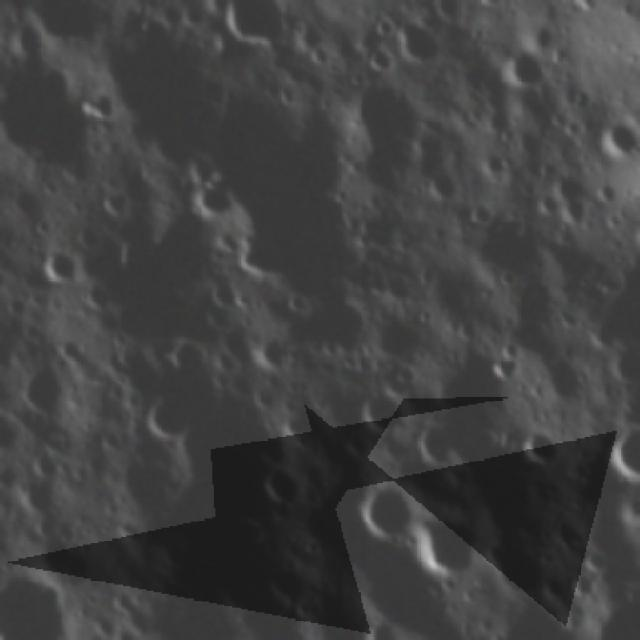crater: (330, 72, 427, 191), (407, 512, 485, 579), (487, 534, 558, 606), (0, 571, 75, 639), (349, 478, 420, 548), (9, 358, 83, 425), (217, 0, 297, 55), (136, 389, 201, 451), (390, 7, 452, 70), (180, 174, 246, 231), (348, 382, 410, 438), (255, 458, 310, 518), (492, 38, 552, 92), (595, 421, 640, 492), (412, 420, 463, 469), (594, 110, 640, 164), (516, 424, 570, 470), (34, 247, 83, 296), (355, 203, 402, 254), (480, 338, 526, 384), (82, 84, 127, 130), (92, 182, 136, 224), (568, 570, 603, 604), (471, 0, 517, 15), (629, 216, 640, 270)
